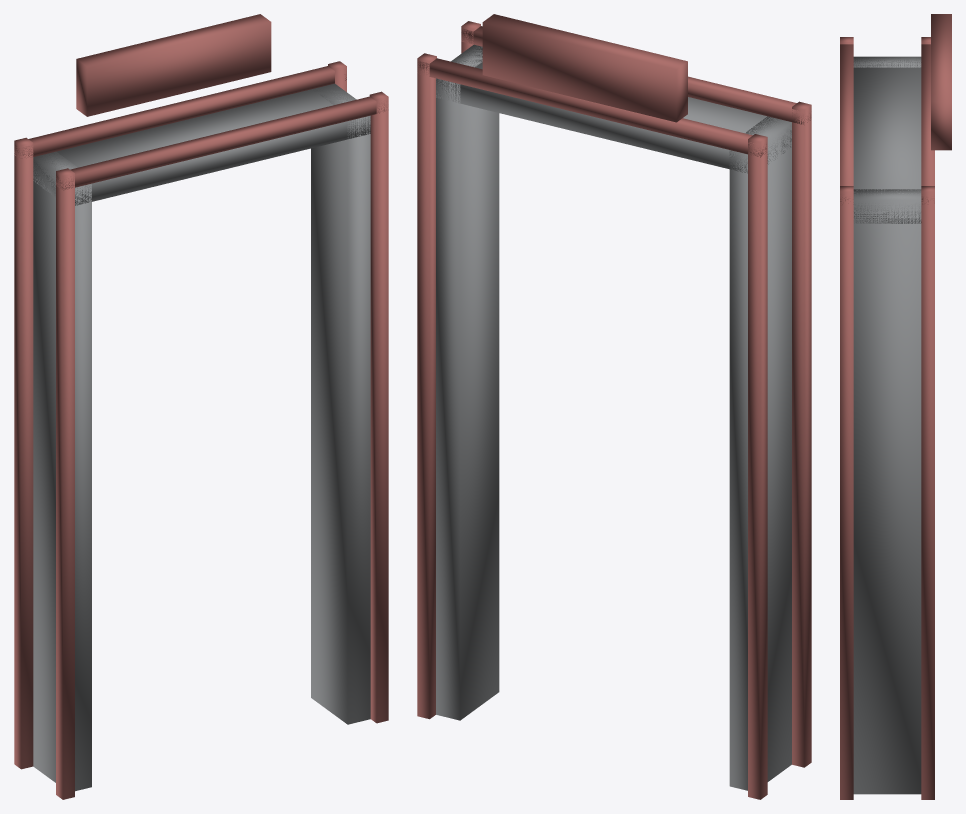
File: doorway_emergency_exit_w96_h210_d24.glb
The picture shows the model from 3 angles, left to right: view 1: azimuth 30°, elevation 25°; view 2: azimuth 150°, elevation 25°; view 3: azimuth 270°, elevation 25°; orthographic projection. The views are drawn at different scales.
Parts seen in each view (by area): view 1: world; view 2: world; view 3: world.
Part boxes in pixels (box(x1,y1,x2,y2)): world: box(14, 14, 388, 799); world: box(417, 14, 811, 799); world: box(840, 14, 951, 799).
Bounding box in the file's own units: 1.22 × 2.45 × 0.3733.
